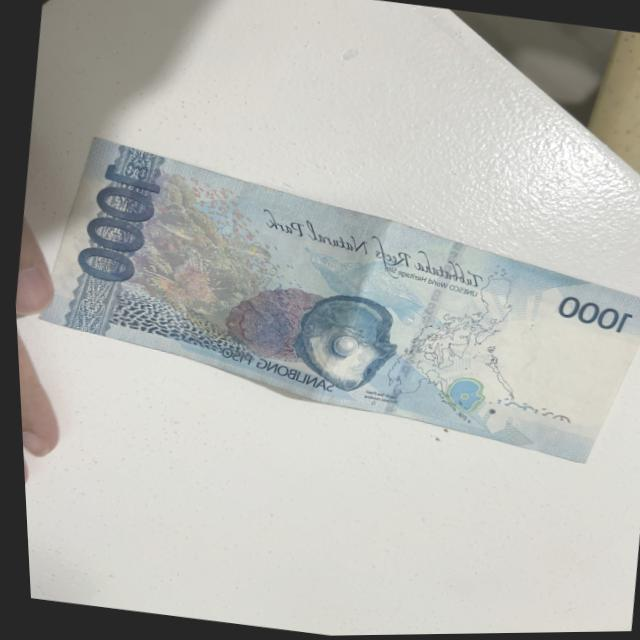1000_pearl: (279, 289, 412, 398)
1000_pearl_watermark: (433, 378, 484, 415)
